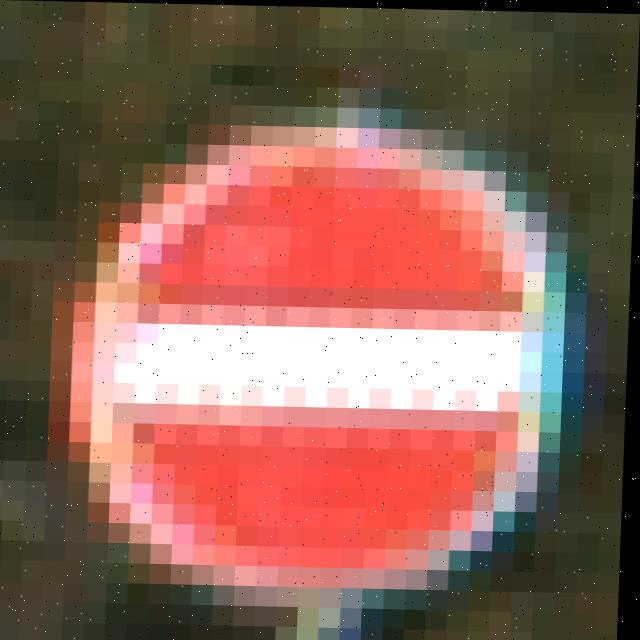road_rough: (93, 90, 599, 586)
